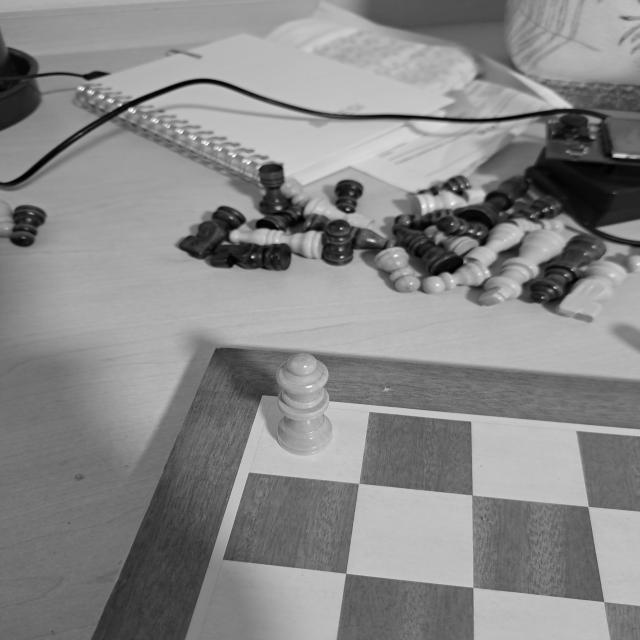chess-table-corners: (245, 386, 278, 406)
